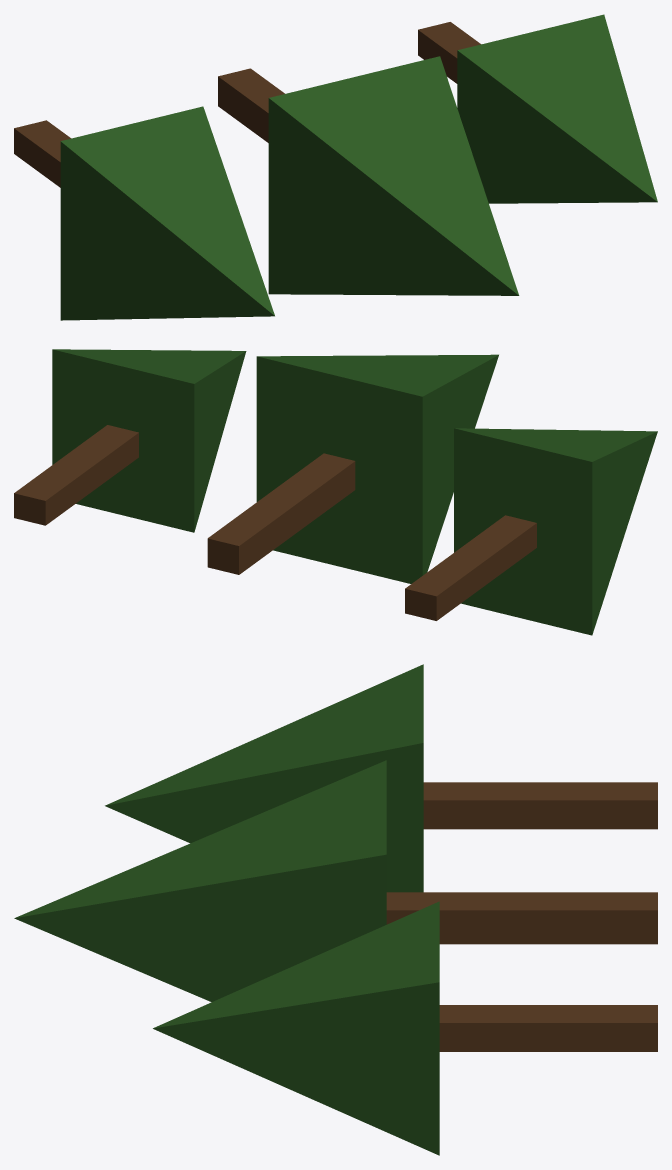
Rendered from trees_field_cluster.obj.
The picture shows the model from 3 angles, top to bottom: view 1: azimuth 30°, elevation 25°; view 2: azimuth 150°, elevation 25°; view 3: azimuth 270°, elevation 25°; orthographic projection. The views are drawn at different scales.
Parts seen in each view (by area): view 1: trees_field_cluster; view 2: trees_field_cluster; view 3: trees_field_cluster.
Boxes of the visible parts, left/top/right/bottom form: trees_field_cluster: left=14, top=14, right=657, bottom=320; trees_field_cluster: left=14, top=349, right=657, bottom=635; trees_field_cluster: left=14, top=664, right=657, bottom=1155.
Bounding box in the file's own units: 2.7 × 0.92 × 2.42.
